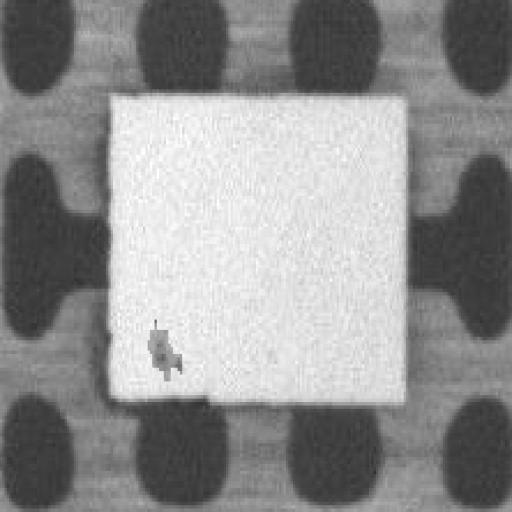DIE_INK: (143, 313, 180, 378)
